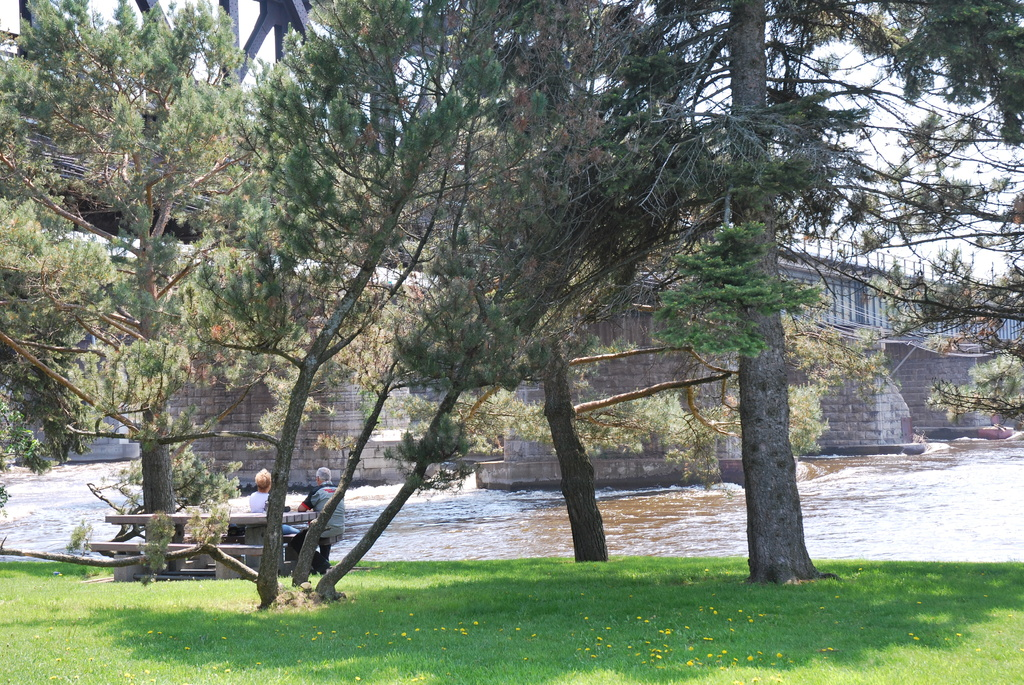Tree: (52, 17, 949, 584)
